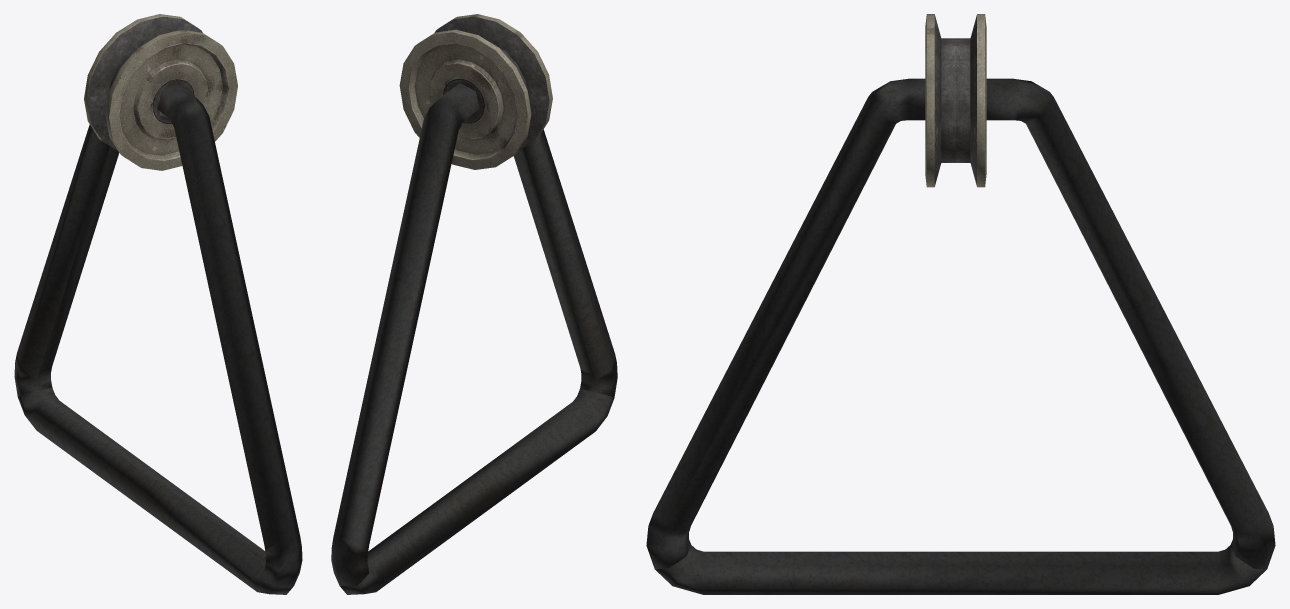
Rendered from Prop_Suodao03.glb.
3 renders of one model, left to right at view 1: azimuth 30°, elevation 25°; view 2: azimuth 150°, elevation 25°; view 3: azimuth 270°, elevation 25°, orthographic. The views are drawn at different scales.
Parts seen in each view (by area): view 1: xiutz_suodao_03; view 2: xiutz_suodao_03; view 3: xiutz_suodao_03.
Boxes of the visible parts, box(x1,y1,x2,y2) form: xiutz_suodao_03: box(14, 14, 302, 594); xiutz_suodao_03: box(331, 14, 617, 594); xiutz_suodao_03: box(646, 14, 1275, 594).
Bounding box in the file's own units: 0.2915 × 1.05 × 1.05.
1 material, 1 textured.
